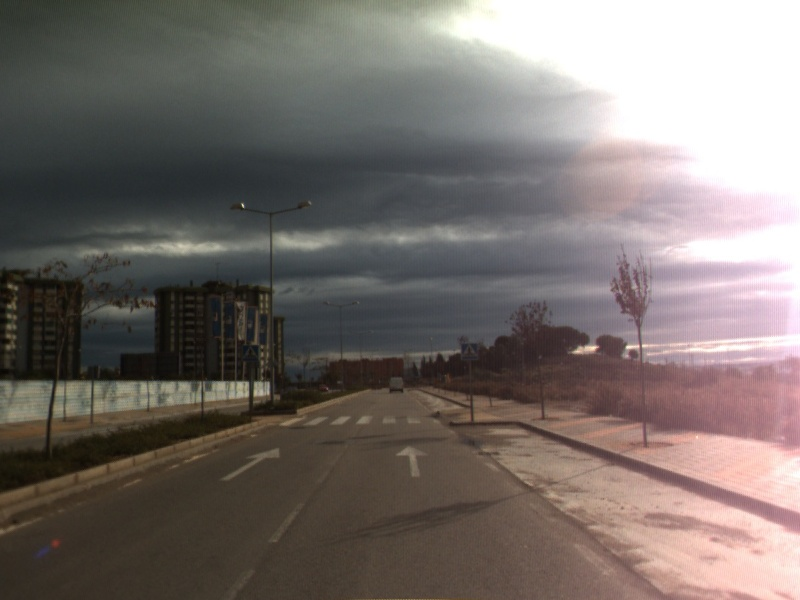STRAIGHT: (217, 446, 282, 483), (393, 443, 431, 479)
